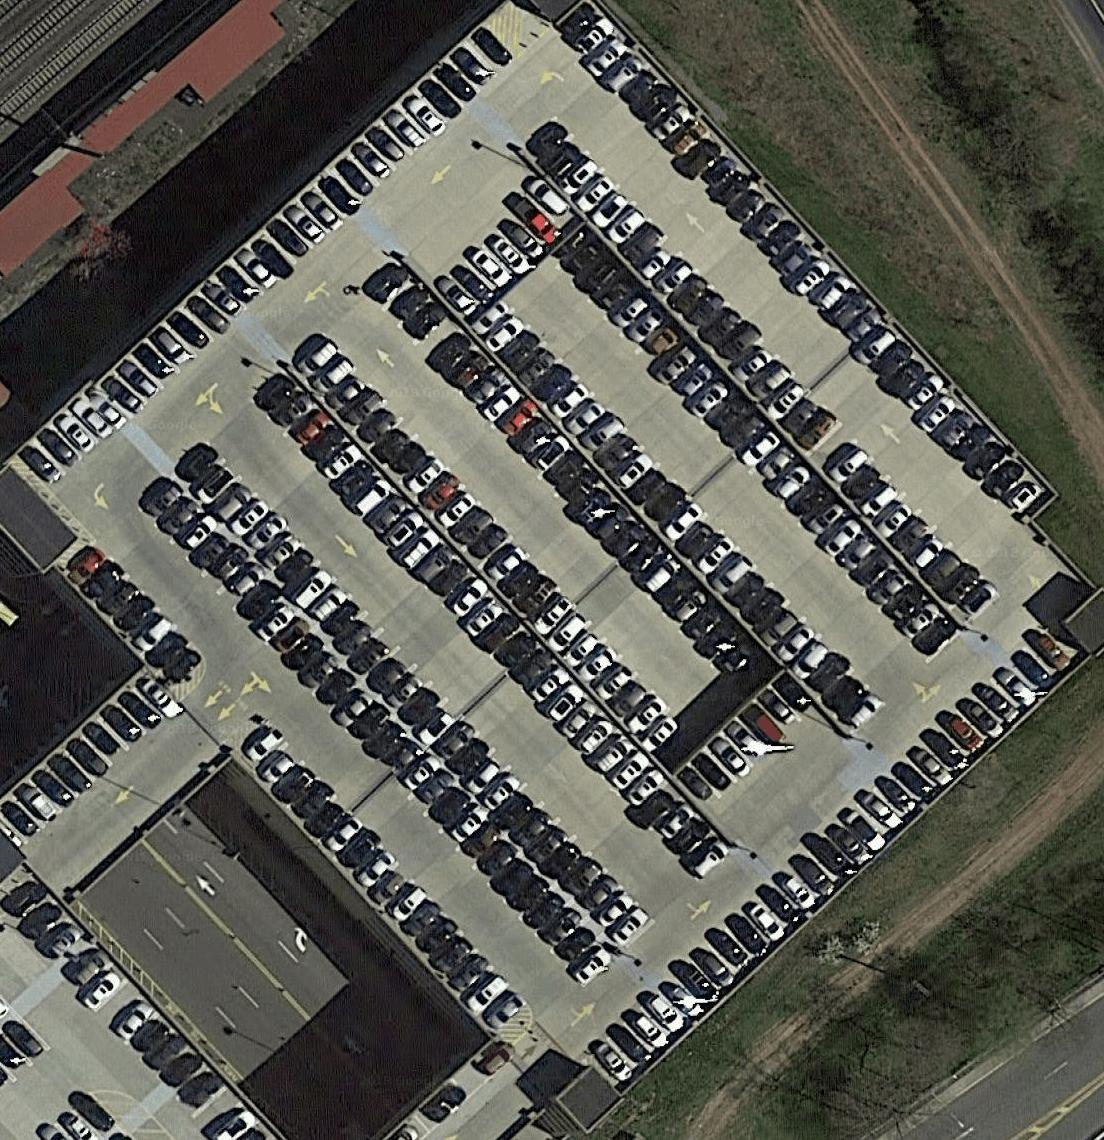parkingspot: (547, 0, 1060, 527), (128, 467, 620, 992), (167, 432, 660, 953), (245, 366, 738, 883), (576, 612, 1092, 1098), (519, 114, 1002, 632), (16, 21, 520, 491), (462, 295, 897, 738), (545, 220, 965, 668), (362, 261, 783, 700), (288, 332, 687, 758), (232, 718, 532, 1036), (1, 873, 283, 1139), (0, 666, 186, 855), (425, 173, 584, 324), (58, 535, 208, 688), (672, 668, 821, 815), (379, 1034, 516, 1140), (0, 992, 55, 1101), (30, 1086, 132, 1140)
